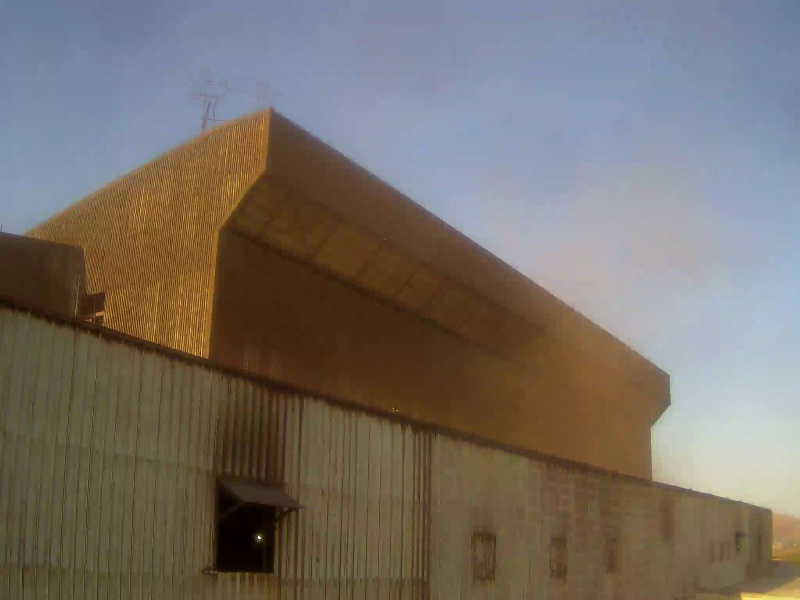Pessimo: (259, 107, 672, 513)
